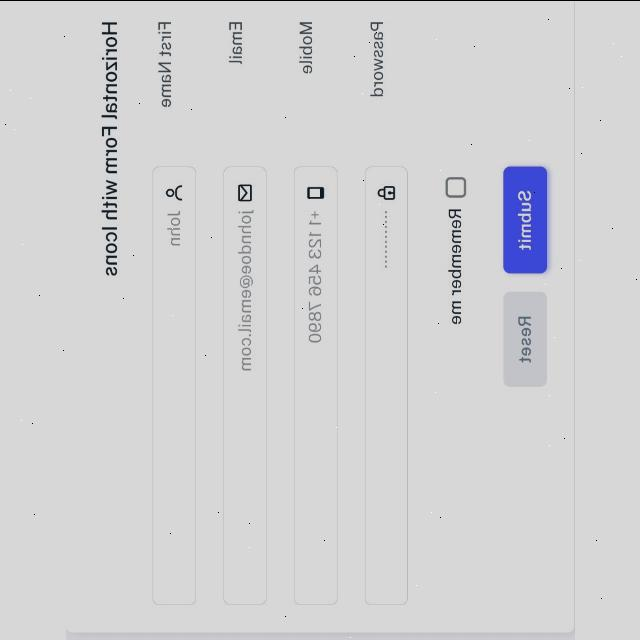QLabel: (98, 18, 120, 274), (447, 207, 463, 325), (156, 20, 174, 106), (368, 19, 387, 97), (296, 17, 314, 73), (517, 188, 533, 248), (226, 18, 244, 62), (518, 314, 532, 362)
VBtn: (500, 163, 550, 274), (501, 288, 549, 388)
VCard: (66, 1, 574, 634)
VCheckbox: (443, 175, 467, 199)
VTextField: (290, 162, 338, 606), (150, 163, 198, 607), (362, 164, 410, 606), (221, 164, 269, 606)
